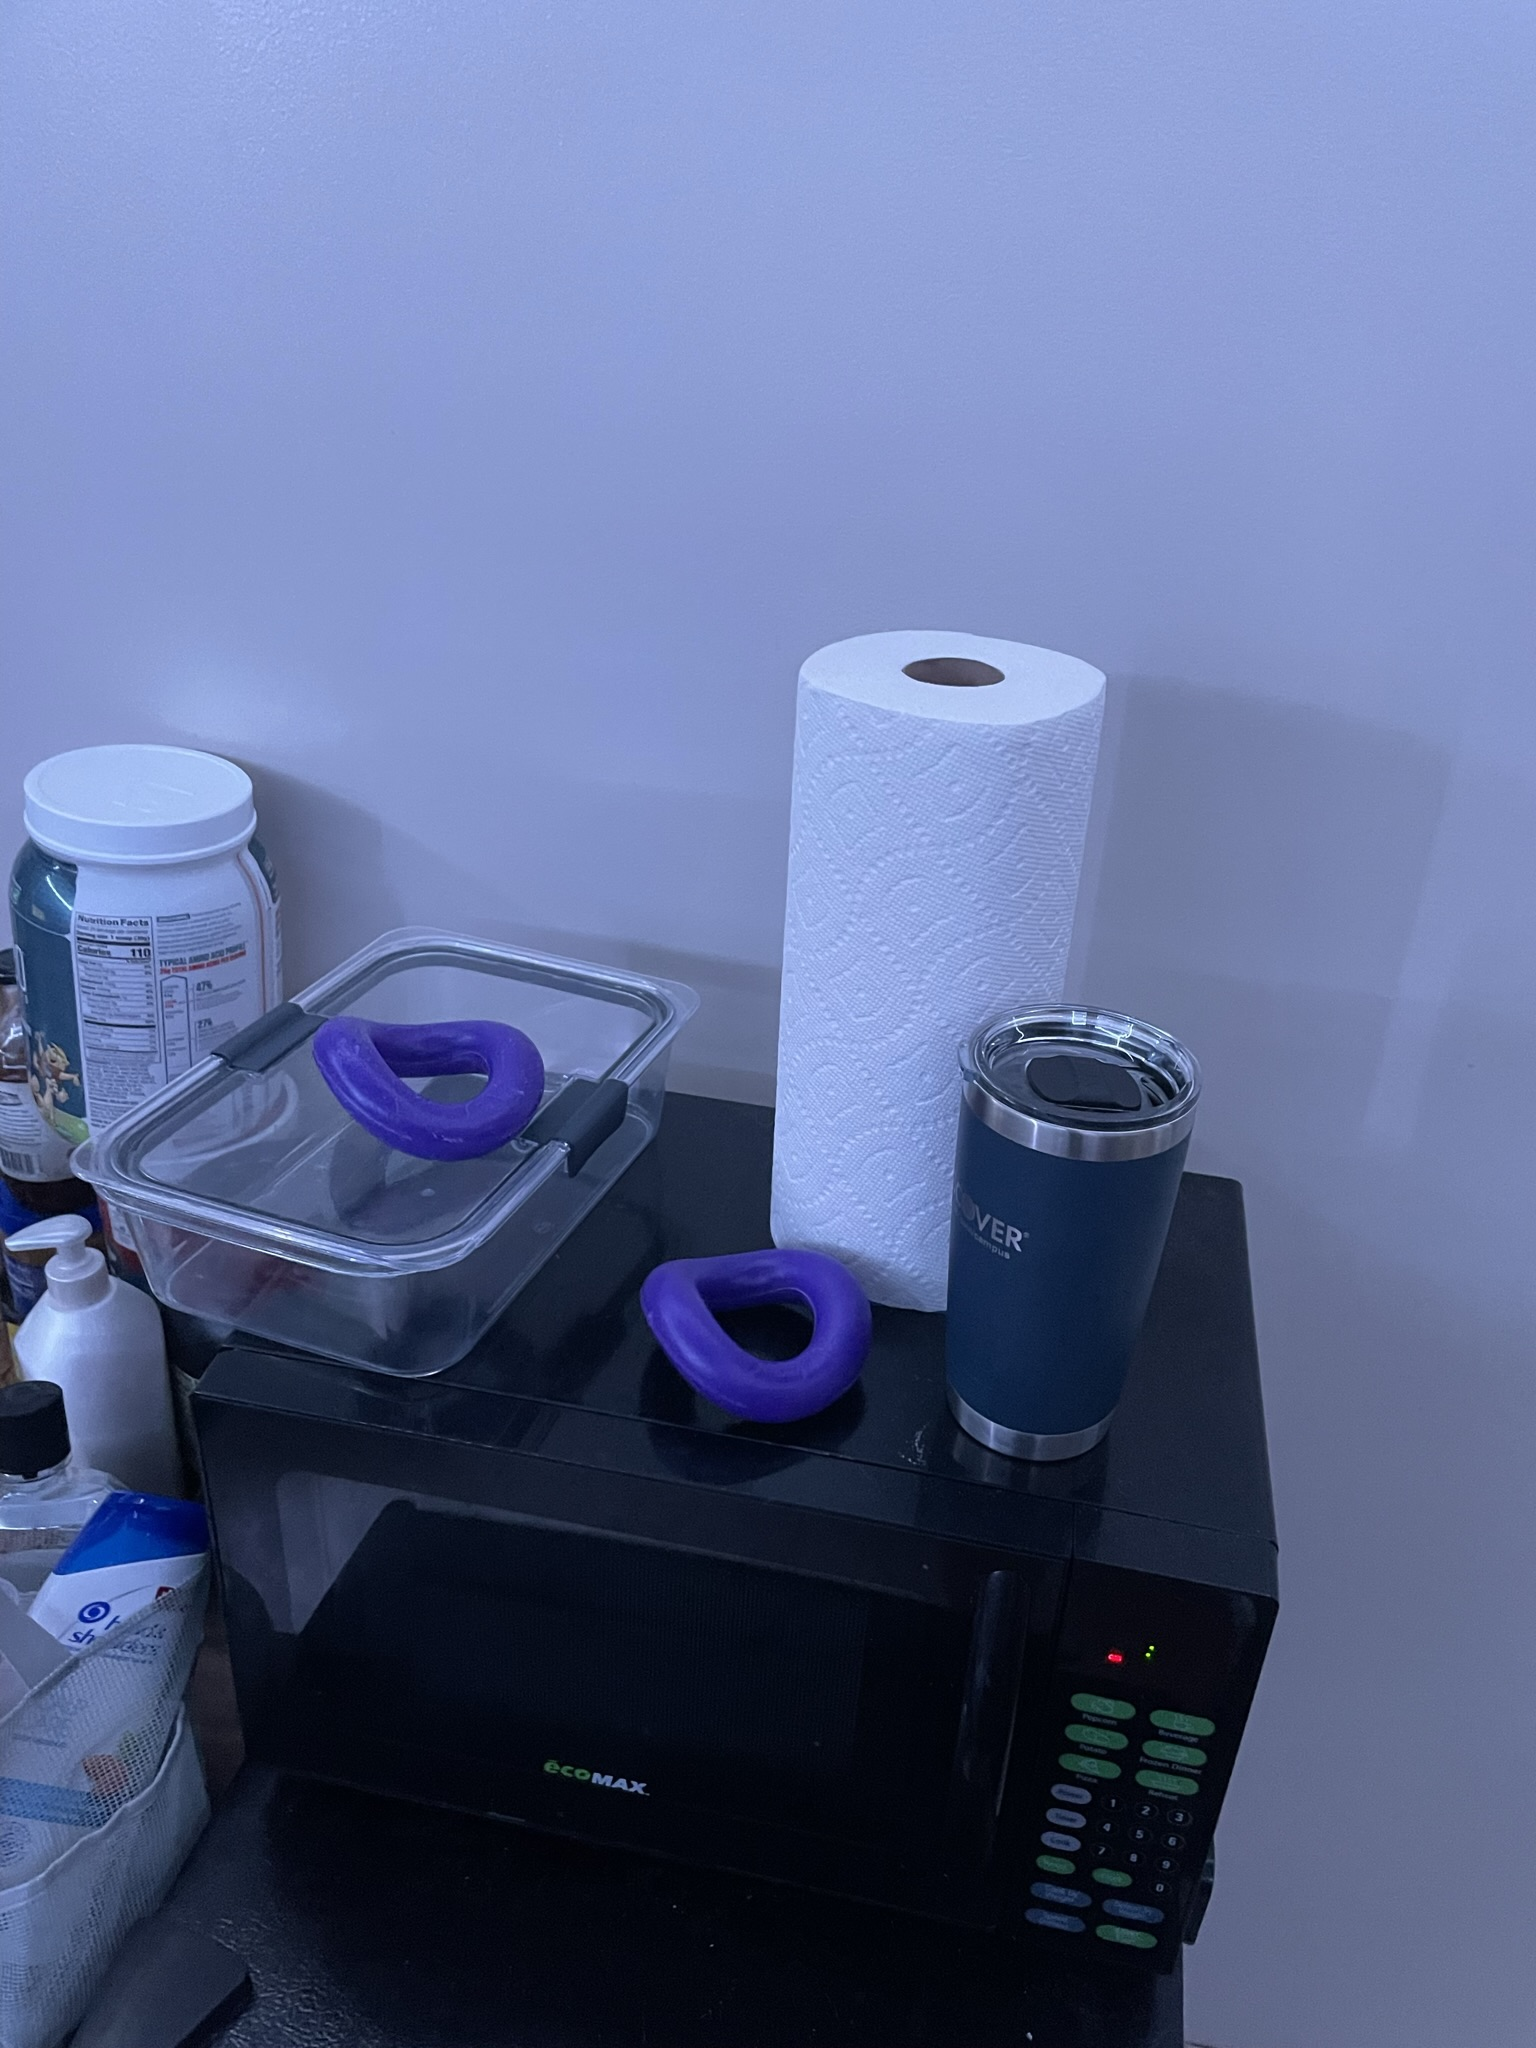ring: (634, 1248, 878, 1422), (310, 1006, 547, 1153)
